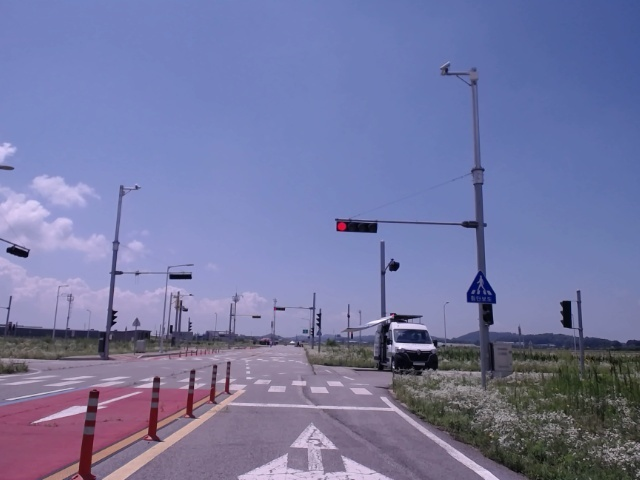red_4: (337, 222, 378, 233)
